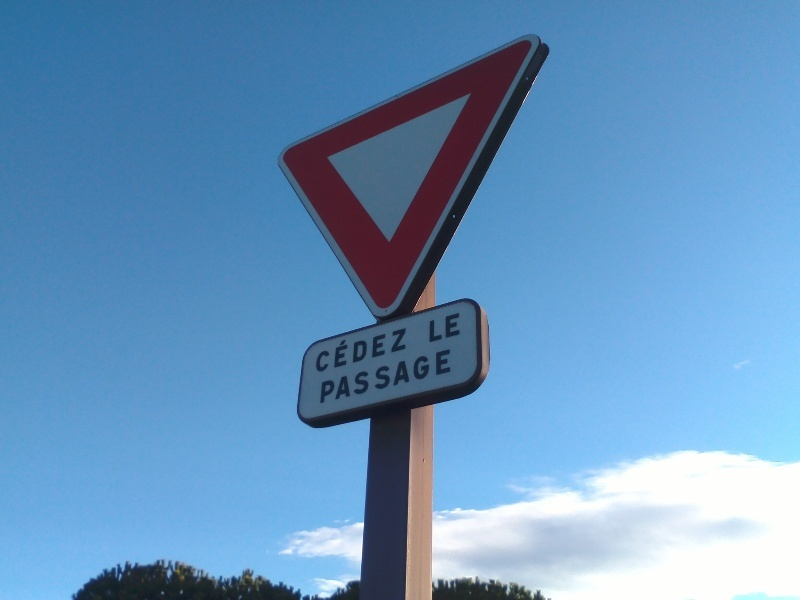text: (337, 349, 352, 405), (353, 349, 368, 405), (369, 349, 384, 405), (385, 349, 400, 405), (401, 349, 416, 405), (417, 349, 432, 405), (433, 349, 448, 405), (322, 349, 336, 405), (321, 323, 336, 374), (337, 323, 352, 374), (353, 323, 368, 374), (369, 323, 384, 374), (385, 323, 400, 374), (433, 313, 448, 343), (449, 313, 461, 343), (401, 323, 408, 374), (317, 323, 320, 374), (449, 349, 451, 405), (429, 313, 432, 343)
